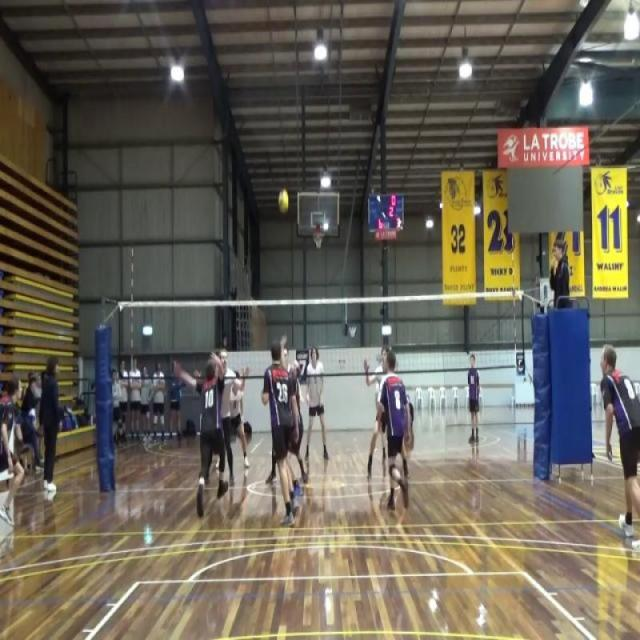volleyball: (278, 190, 290, 213)
